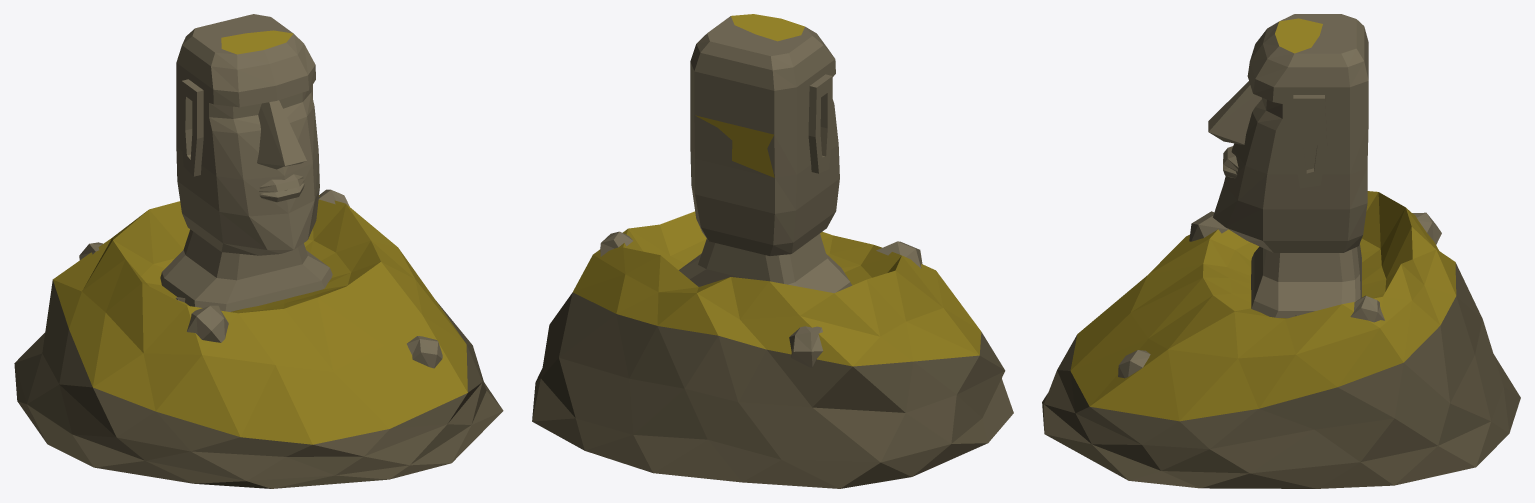
File: rano-raraku-quarry-head-2a6eea.glb
The picture shows the model from 3 angles, left to right: view 1: azimuth 30°, elevation 25°; view 2: azimuth 150°, elevation 25°; view 3: azimuth 270°, elevation 25°; orthographic projection. The views are drawn at different scales.
Parts seen in each view (by area): view 1: quarry-head; view 2: quarry-head; view 3: quarry-head.
Part boxes in pixels (<box>): quarry-head: <box>14,14,503,488</box>; quarry-head: <box>532,14,1013,488</box>; quarry-head: <box>1042,14,1520,488</box>.
Bounding box in the file's own units: 4.32 × 3.66 × 4.39.
